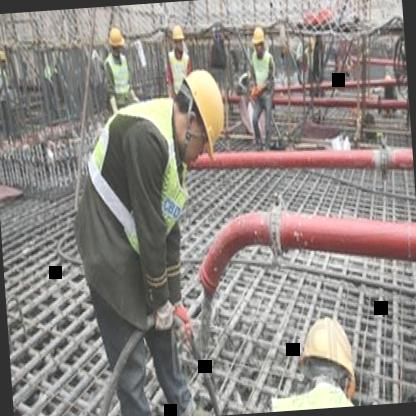helmet: (291, 309, 362, 405), (166, 63, 228, 164), (107, 28, 128, 65), (250, 22, 266, 60), (172, 22, 186, 60)
